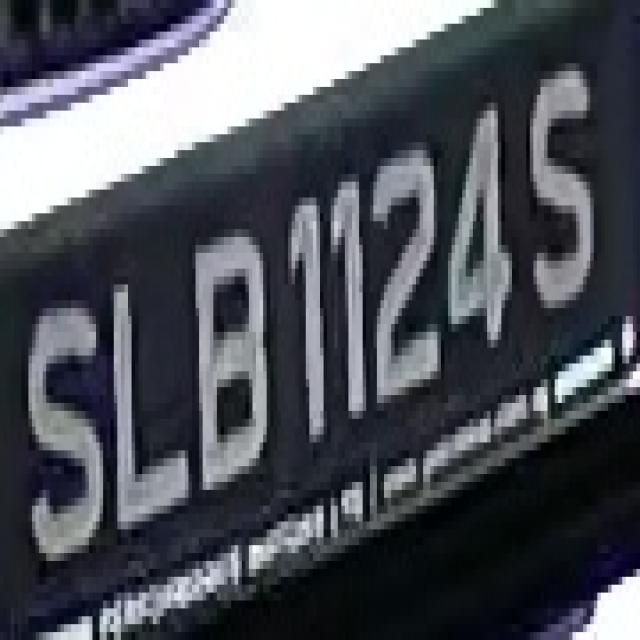1: (320, 174, 377, 474), (277, 198, 331, 458)
2: (366, 142, 441, 435)
4: (423, 79, 519, 411)
B: (174, 213, 274, 474)
L: (100, 237, 192, 561)
S: (21, 268, 107, 576), (516, 39, 608, 324)
